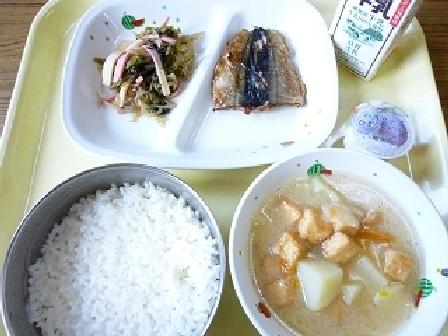Cup desserts: (335, 90, 430, 169)
Fish: (203, 18, 319, 127)
Milk: (336, 0, 428, 68)
Rice: (4, 167, 234, 335)
Soups: (245, 174, 447, 333)
salad with sauce: (84, 15, 211, 119)
